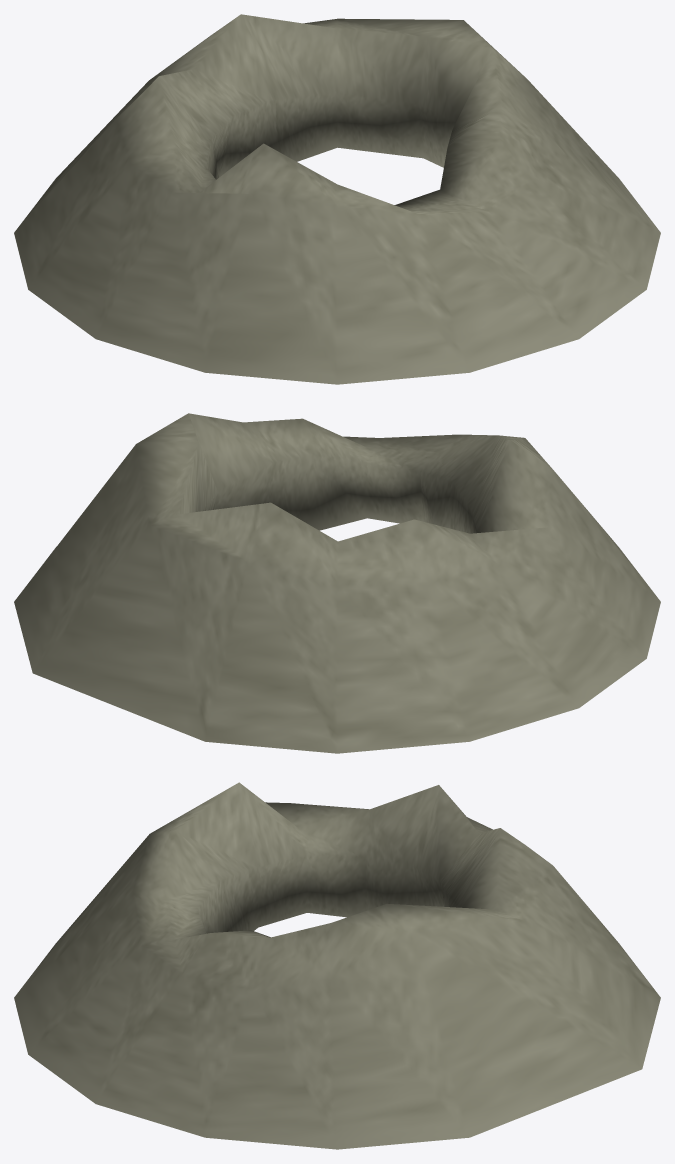
File: EndCapF.fbx
3 views of the same model, one above another, from view 1: azimuth 30°, elevation 25°; view 2: azimuth 150°, elevation 25°; view 3: azimuth 270°, elevation 25° (orthographic).
Visible parts, largest first — view 1: Tunne_Cap_2; view 2: Tunne_Cap_2; view 3: Tunne_Cap_2.
Part boxes in pixels (left/top/right/bottom): Tunne_Cap_2: left=14, top=14, right=660, bottom=384; Tunne_Cap_2: left=14, top=413, right=660, bottom=753; Tunne_Cap_2: left=14, top=782, right=660, bottom=1149.
Bounding box in the file's own units: 33.12 × 10.05 × 33.3.
Materials: 1 (1 with a texture image).
